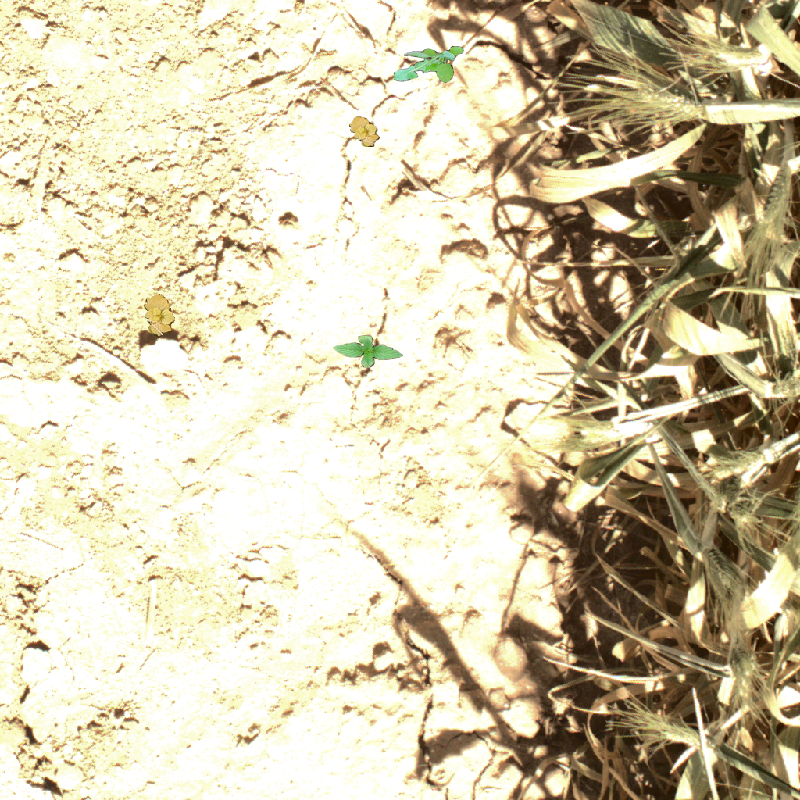spikelet: (716, 422, 799, 486), (610, 82, 711, 126), (749, 158, 800, 227), (634, 711, 715, 754), (728, 632, 764, 711), (695, 42, 771, 74)
weed: (132, 289, 186, 342), (394, 46, 464, 83), (333, 335, 403, 368), (349, 116, 380, 147)
